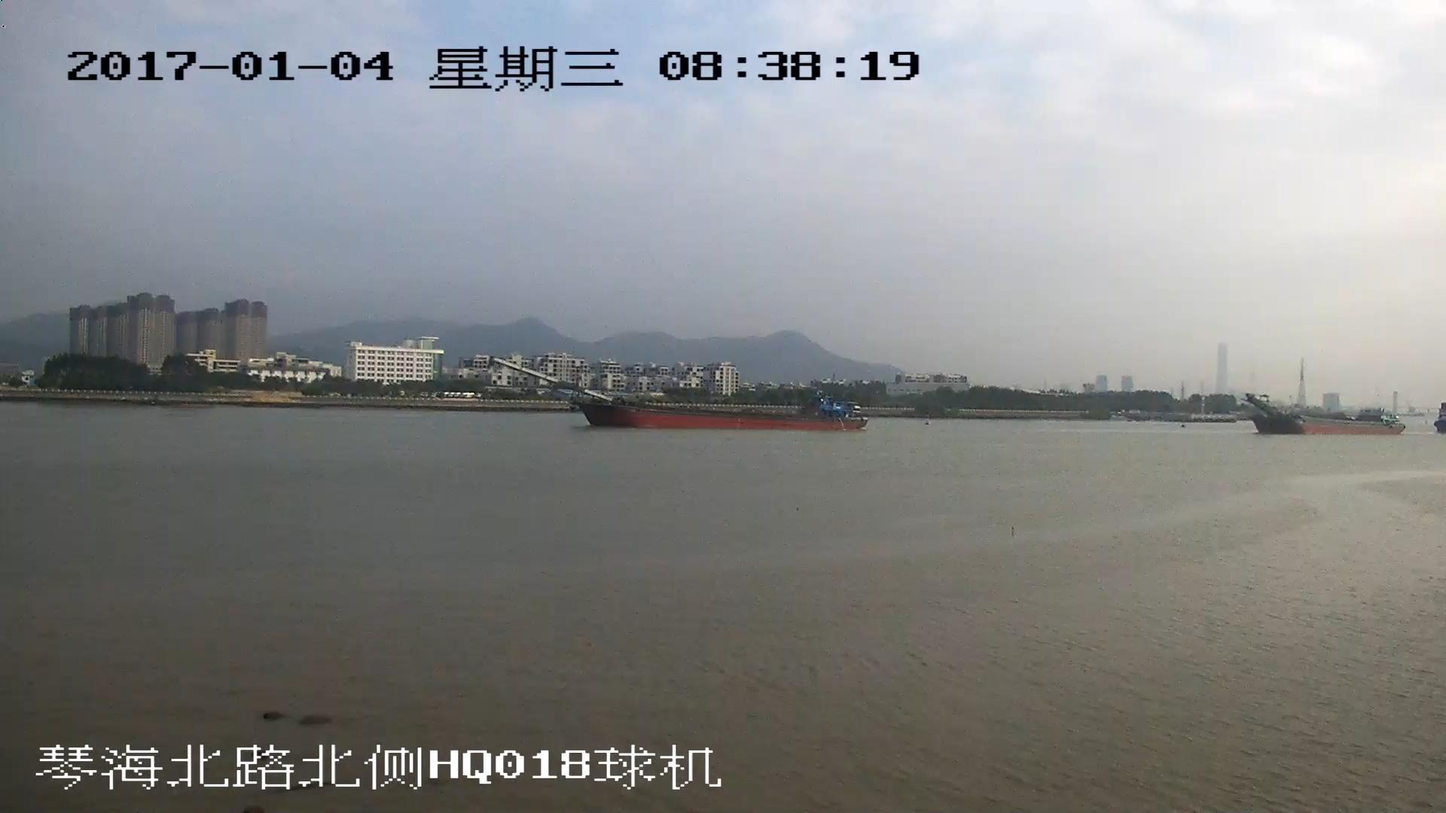bulk cargo carrier: (492, 355, 863, 431), (1246, 396, 1399, 434)
